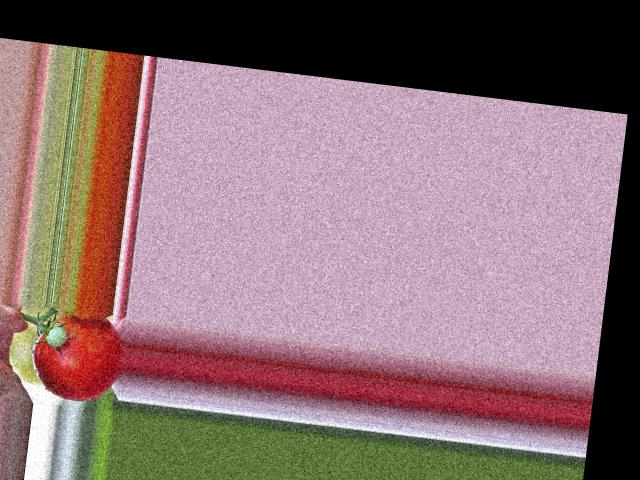tomato: (27, 310, 127, 405)
